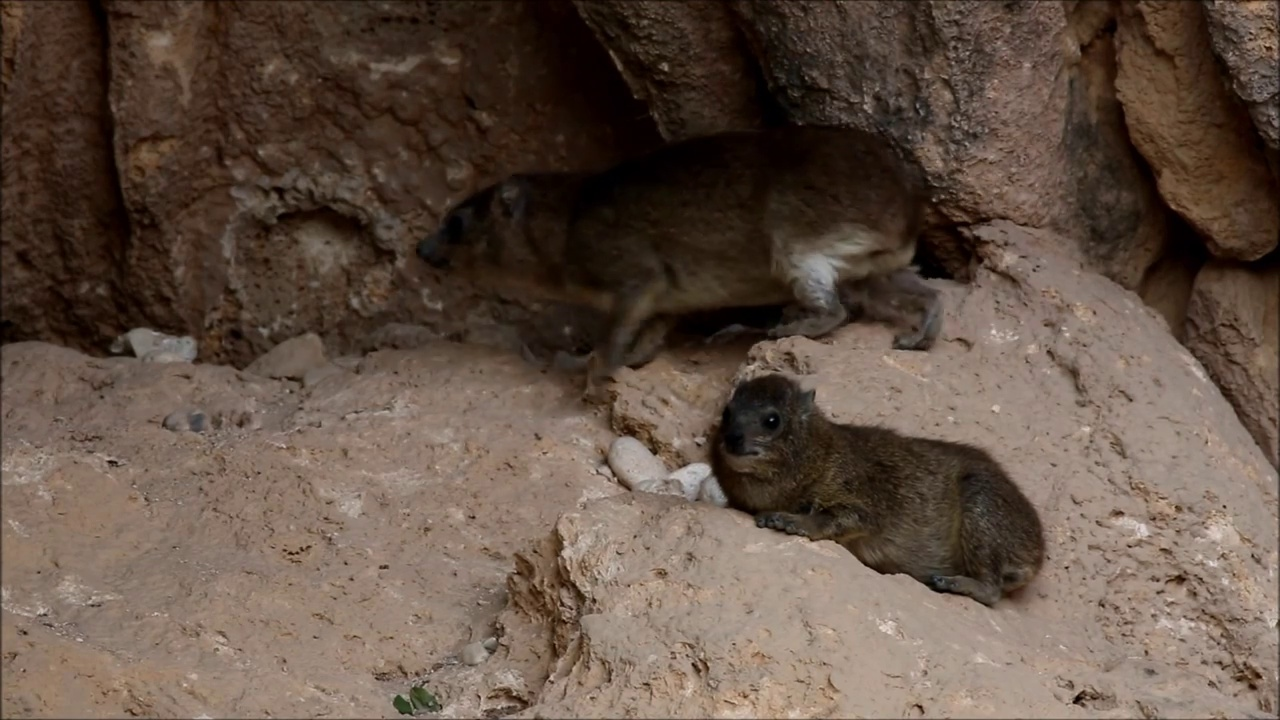Rock Hyrex: (402, 133, 970, 407), (714, 376, 1051, 611)
